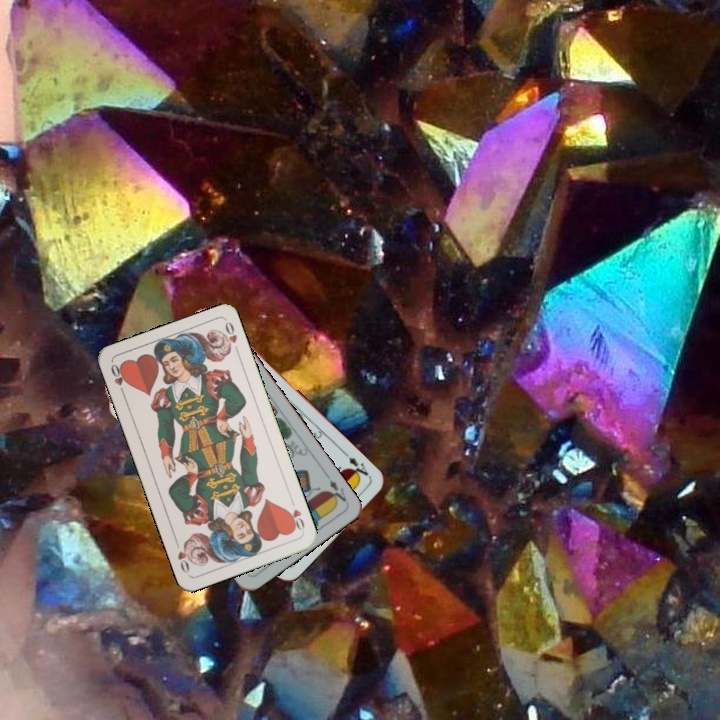EA: (322, 470, 349, 507), (344, 453, 373, 482)
HO: (283, 495, 307, 533), (107, 360, 129, 399)
